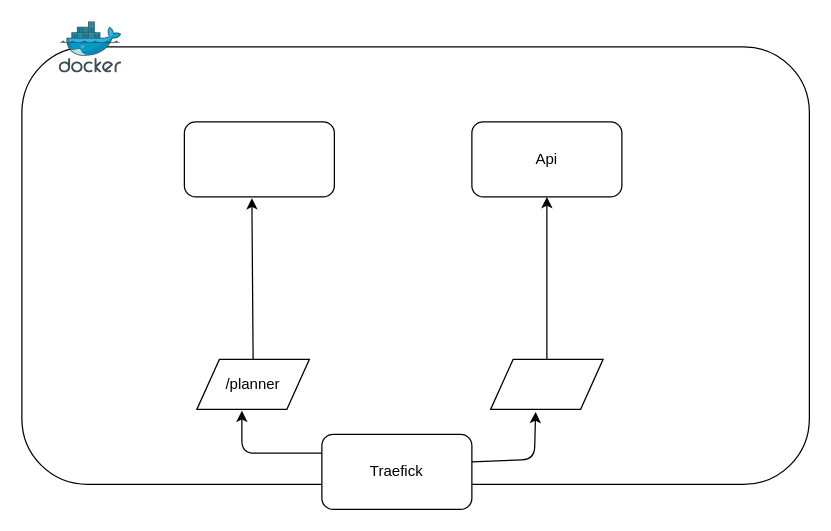
The diagram is 831 pixels wide and 531 high, and some of its shapes have lost their labels. The centre of each missing label's shape, as x and y in pixels:
"/api" belongs at (x=546, y=383).
"Planner" belongs at (x=258, y=159).
